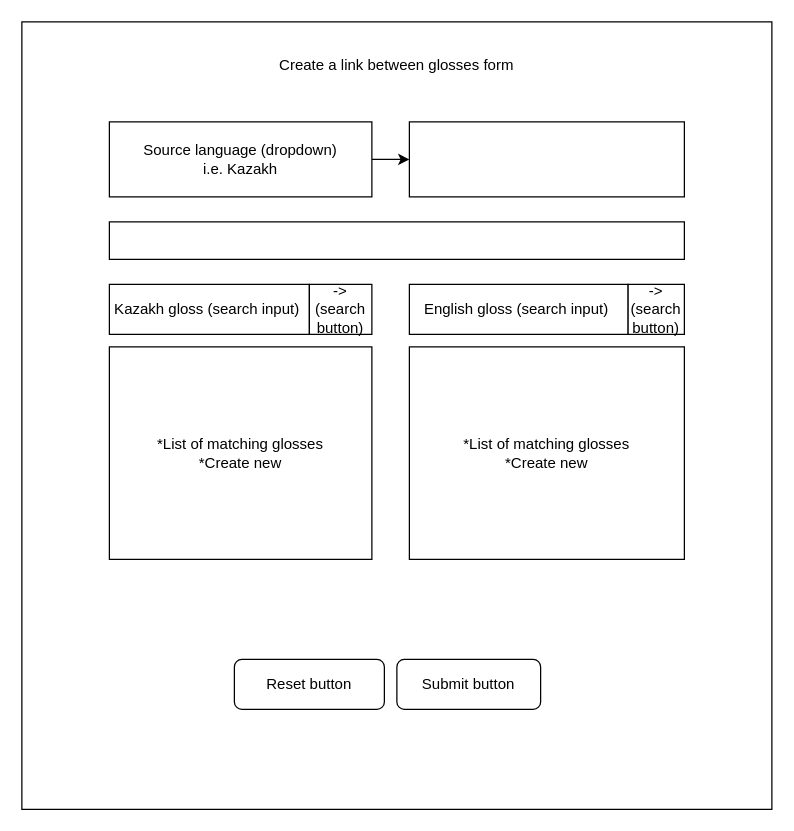
Image size: 794x831. Some labels were removed from this diagram. Here are the shapes that lost their labels. From the top down, the box of each, then its label:
(408, 121, 684, 197): Destination language (dropdown) i.e. English
(108, 221, 684, 259): Part of speech (dropdown)
